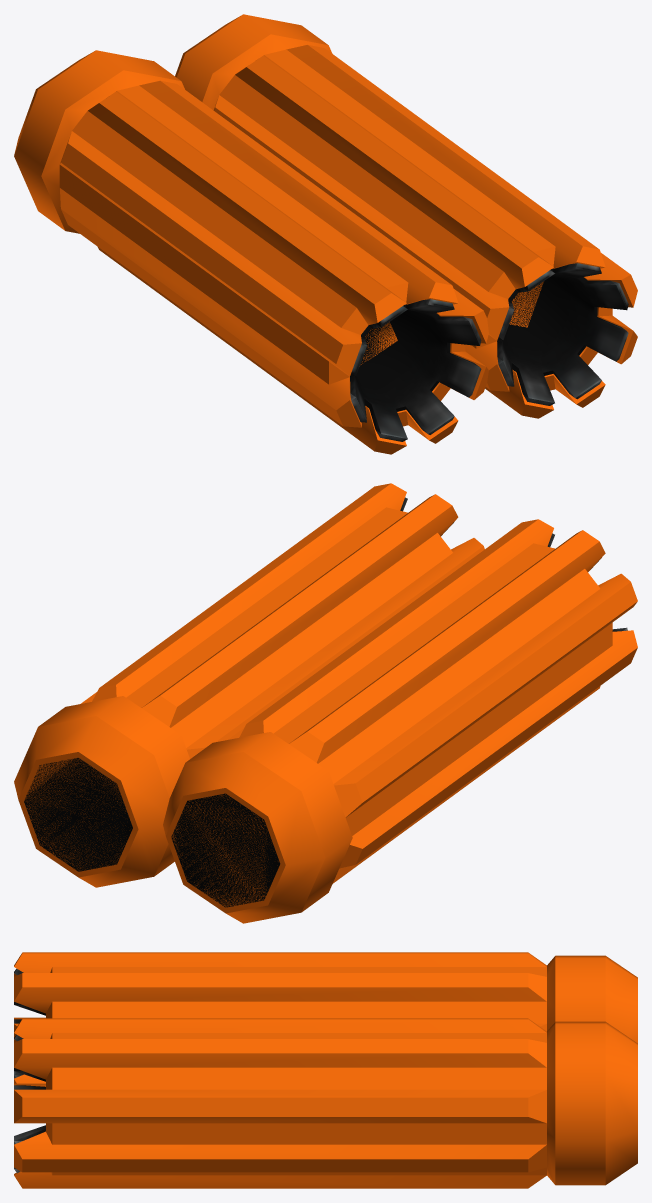
Rendered from Nailgun Overheat.glb.
The picture shows the model from 3 angles, top to bottom: view 1: azimuth 30°, elevation 25°; view 2: azimuth 150°, elevation 25°; view 3: azimuth 270°, elevation 25°; orthographic projection. The views are drawn at different scales.
Visible parts, largest first — view 1: Barrel_R (1), Barrel_L (1), Barrel_L, Barrel_R; view 2: Barrel_R (1), Barrel_L (1), Barrel_R, Barrel_L; view 3: Barrel_L (1), Barrel_R (1), Barrel_L.
Boxes of the visible parts, x1,y1,x2,y2 form: Barrel_R (1): (14, 50, 488, 454); Barrel_L (1): (175, 14, 637, 418); Barrel_L: (497, 263, 628, 405); Barrel_R: (350, 299, 481, 441); Barrel_R (1): (163, 519, 637, 923); Barrel_L (1): (14, 483, 484, 887); Barrel_R: (171, 533, 627, 907); Barrel_L: (24, 497, 453, 871); Barrel_L (1): (14, 1018, 637, 1188); Barrel_R (1): (14, 952, 637, 1083); Barrel_L: (14, 1034, 45, 1173).
Bounding box in the file's own units: 0.7978 × 0.4207 × 1.51.
Materials: 2 (2 with a texture image).
